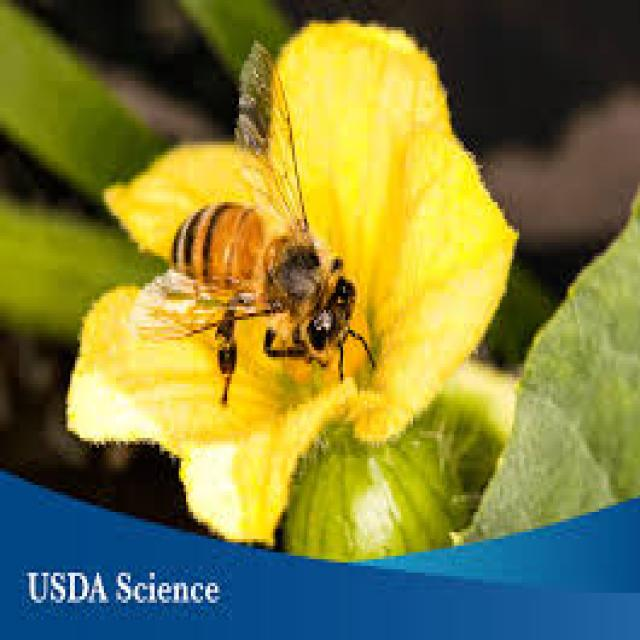Bees: (134, 39, 378, 410)
